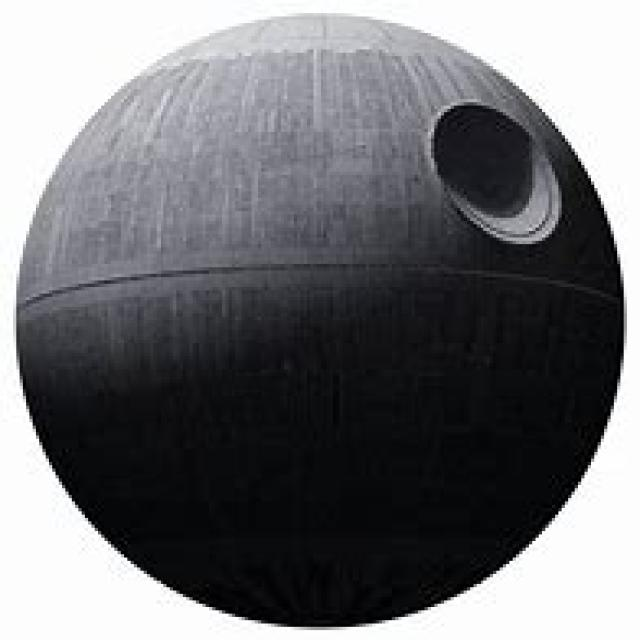Death Star: (19, 10, 620, 623)
